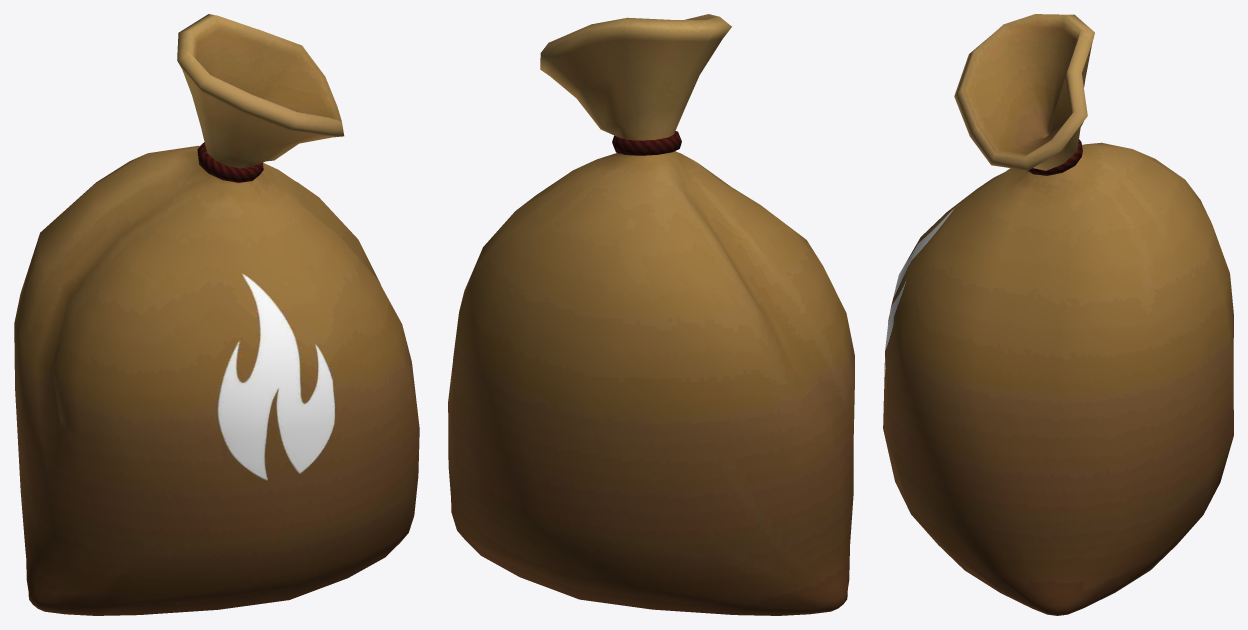
The model's file is moneybag_glb_2.glb.
3 renders of one model, left to right at view 1: azimuth 30°, elevation 25°; view 2: azimuth 150°, elevation 25°; view 3: azimuth 270°, elevation 25°, orthographic. The views are drawn at different scales.
Parts seen in each view (by area): view 1: MoneyBag; view 2: MoneyBag; view 3: MoneyBag.
Part boxes in pixels (x1,y1,x2,y2): MoneyBag: [14, 14, 419, 615]; MoneyBag: [448, 14, 854, 615]; MoneyBag: [883, 14, 1233, 615].
Size of the model in its own units: 0.4525 by 0.6279 by 0.3909.
Materials: 1 (1 with a texture image).
